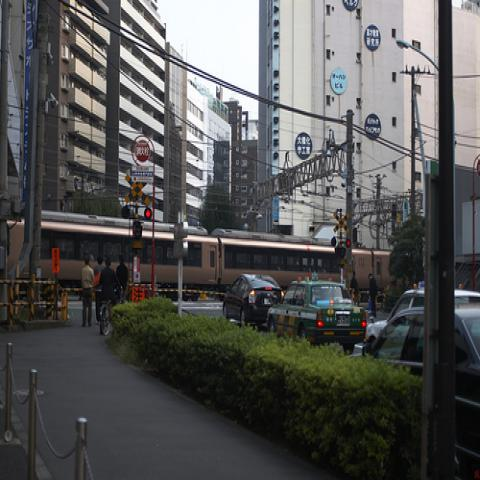car: (366, 302, 479, 430), (264, 278, 367, 357), (220, 273, 285, 327), (388, 287, 479, 316)
